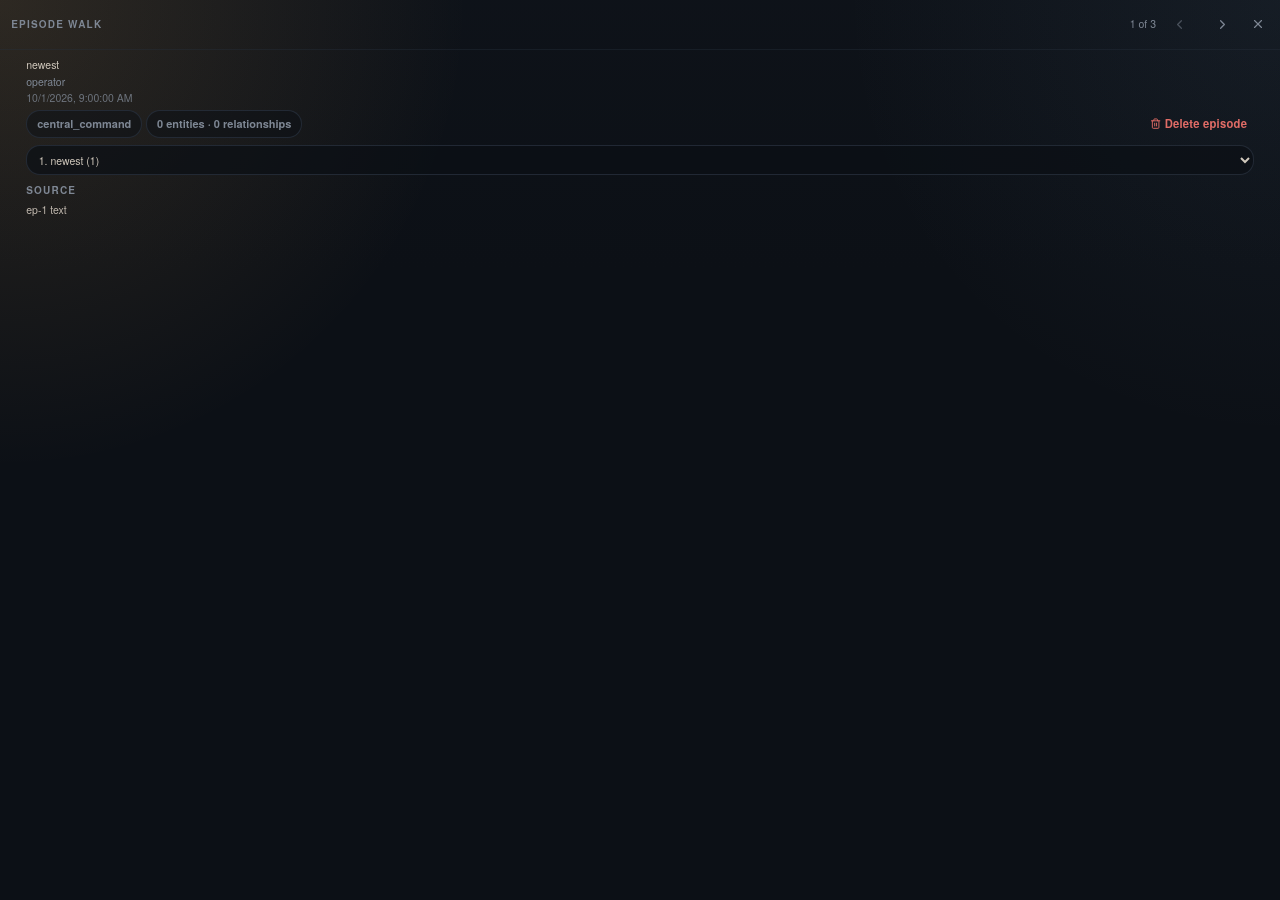
Scenario: EpisodeWalk deletion › after a deletion lands, moves to the neighbouring episode and reloads the canvas
This screenshot has width=1280, height=900.
Step 1. Click the button named "Next episode" → (1223, 24), box [1203, 8, 1242, 41]
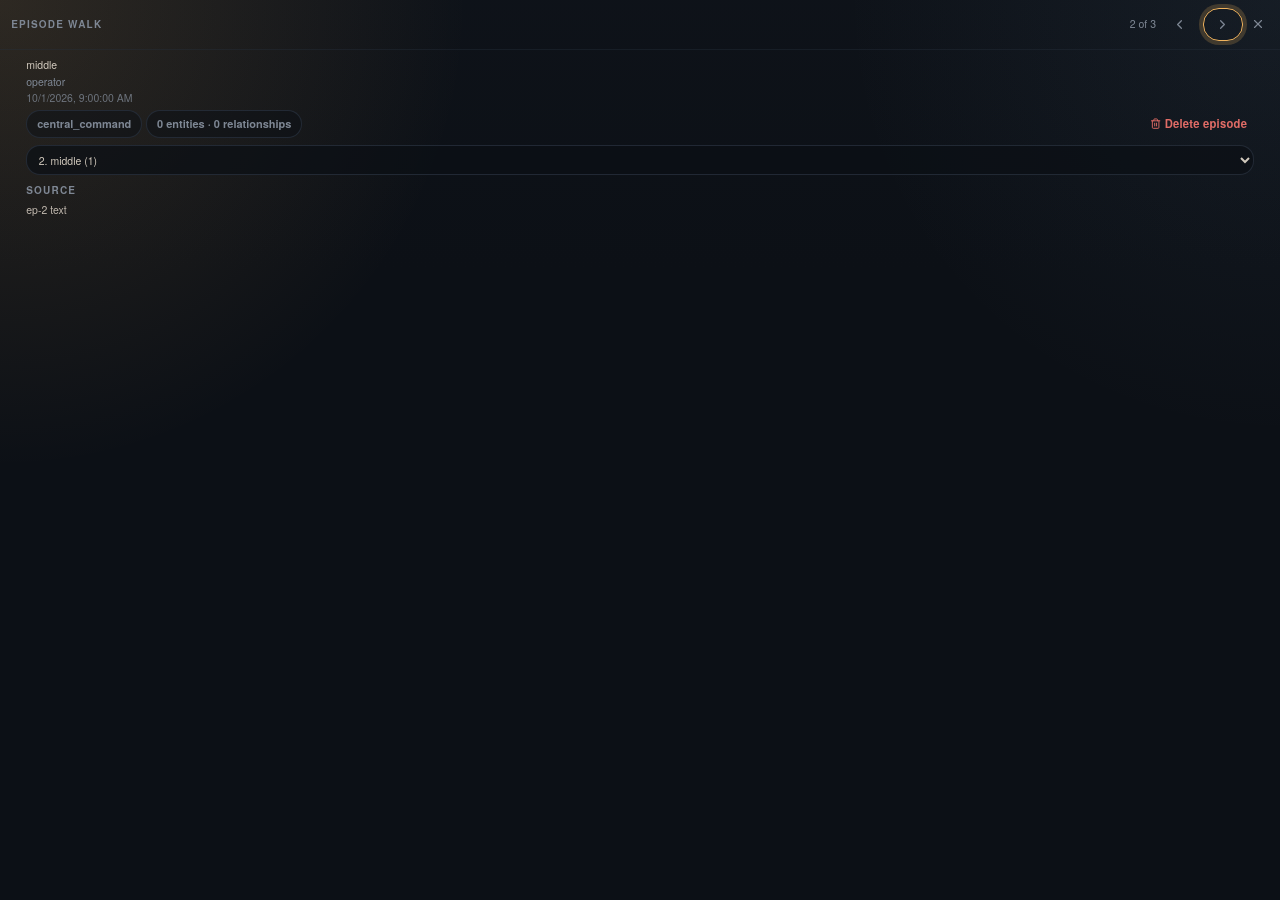
Now the text "ep-2 text" is shown, box [26, 202, 67, 217]
Step 2. Click the button "Delete episode" → (1198, 124), box [1143, 111, 1254, 137]
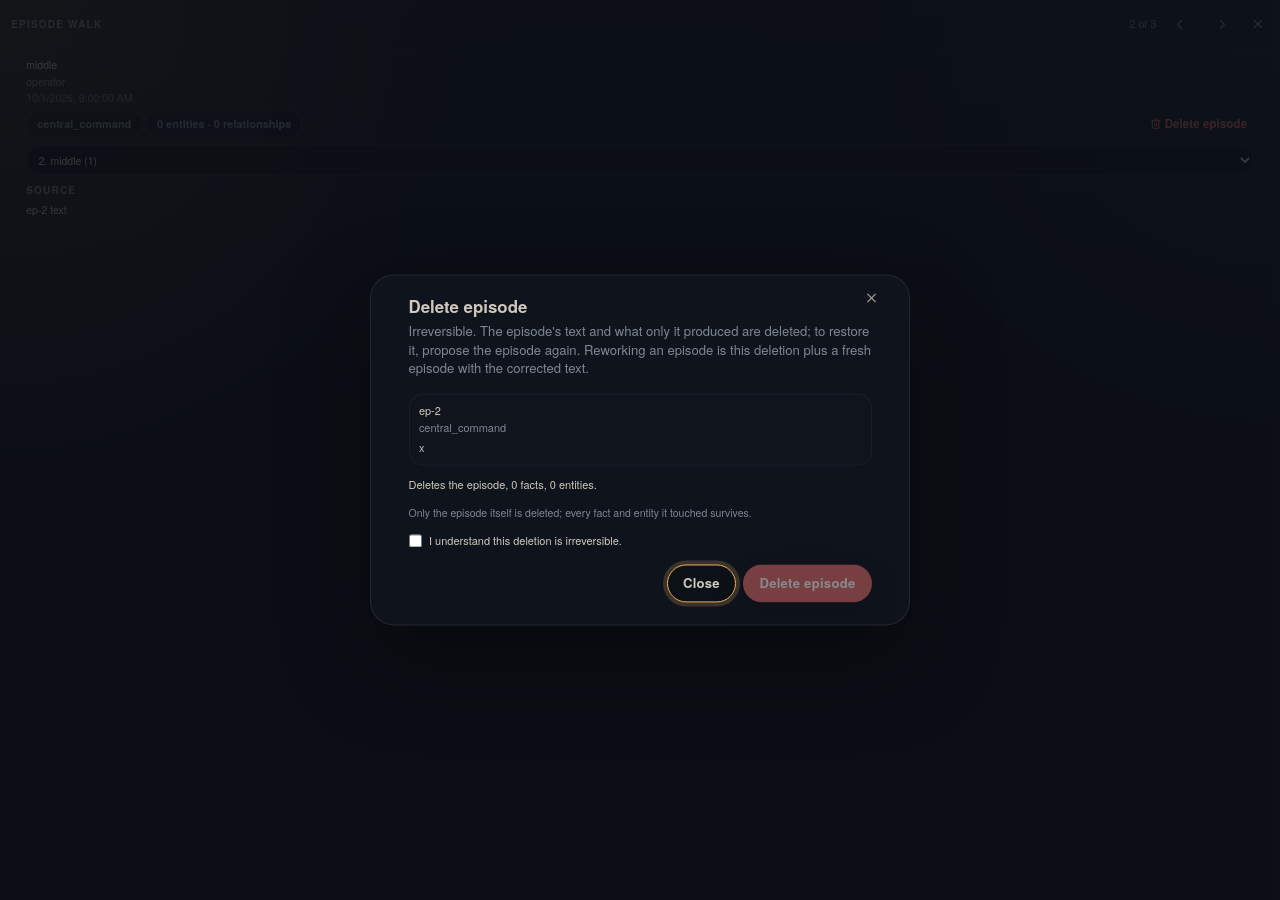
Step 3. Click the checkbox labelled "I understand this deletion is irreversible" → (415, 541), box [408, 534, 422, 548]
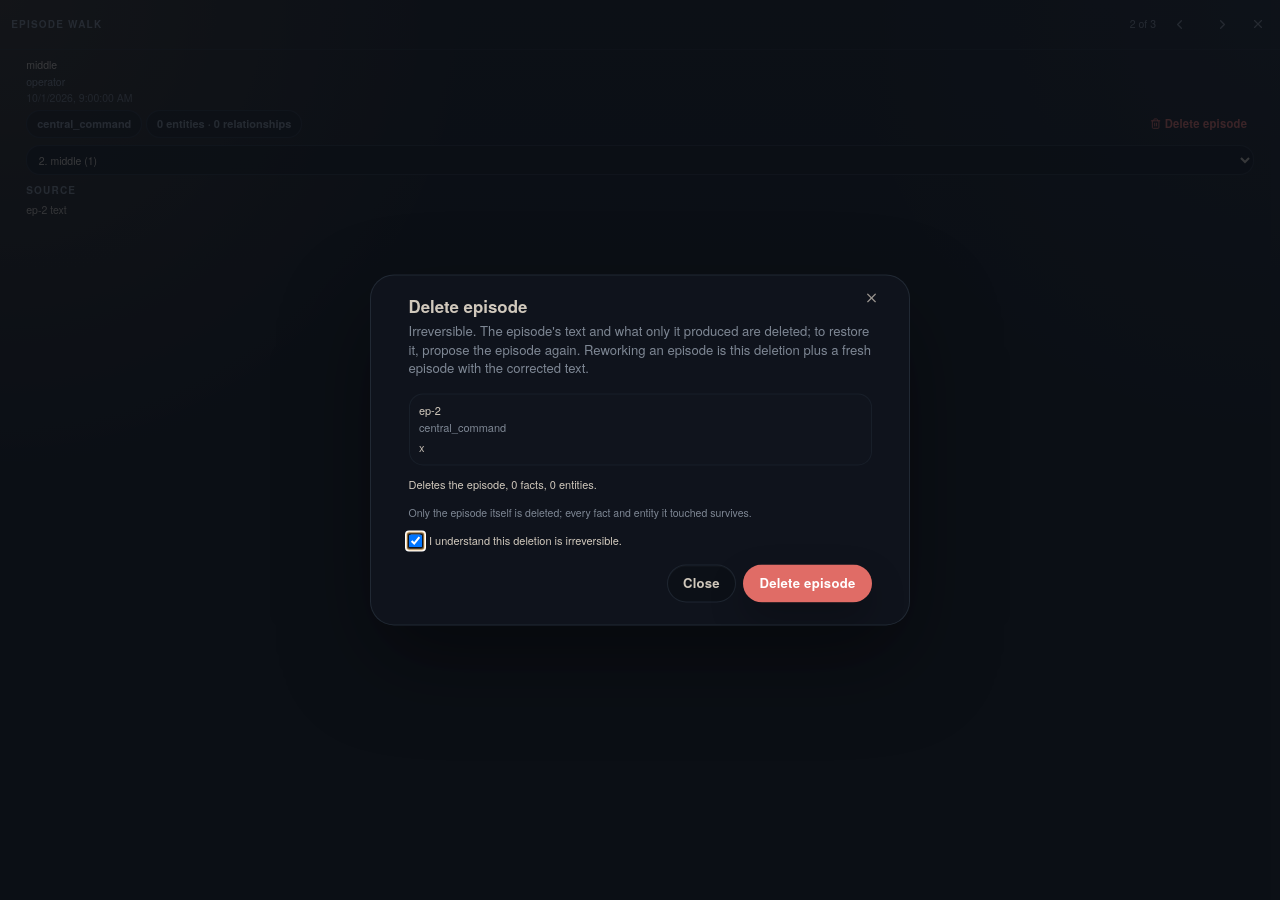
Step 4. Click the button "Delete episode" → (807, 583), box [743, 565, 872, 602]
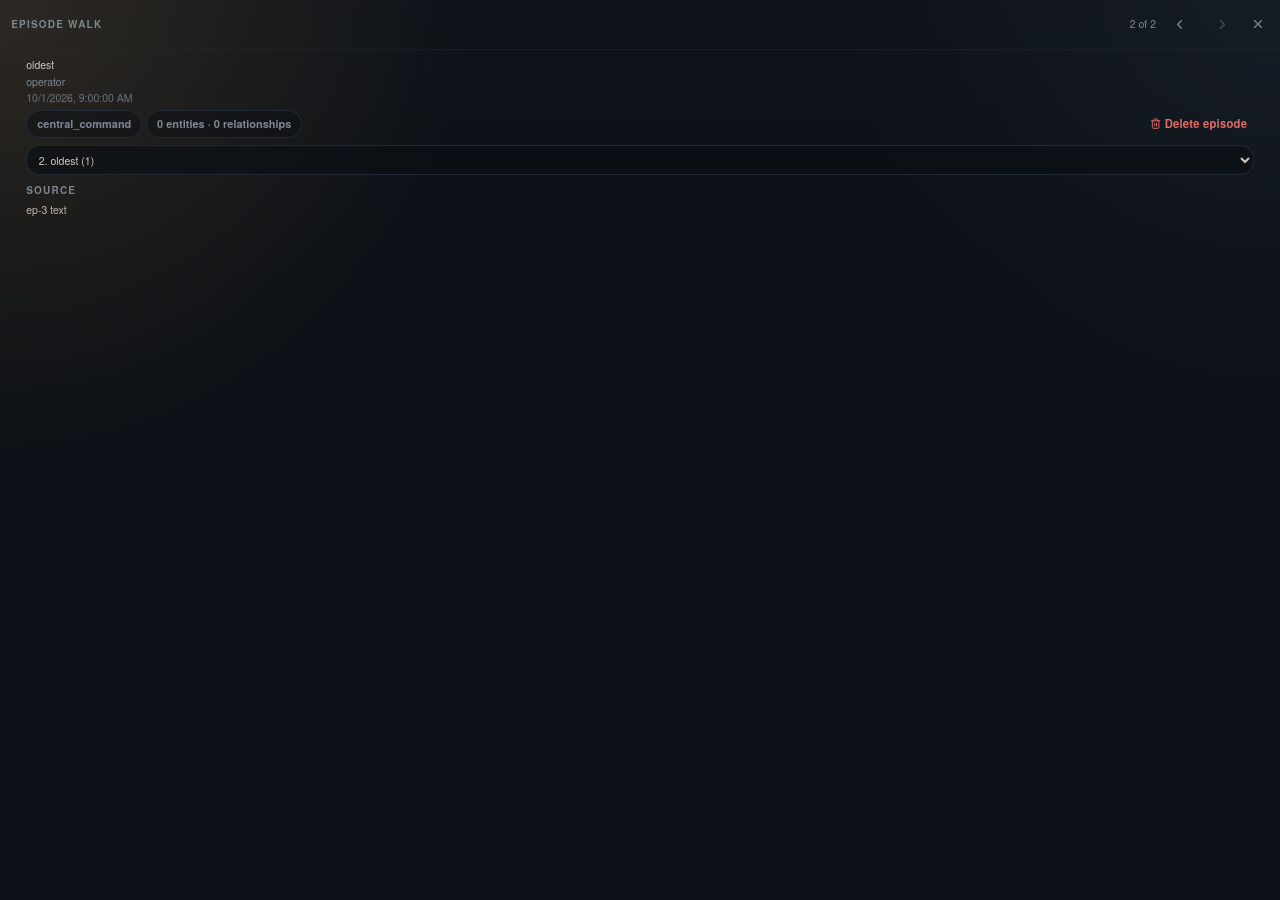
Now the text "ep-3 text" is shown, box [26, 202, 67, 217]
Now the text "2 of 2" is shown, box [1130, 16, 1156, 32]
